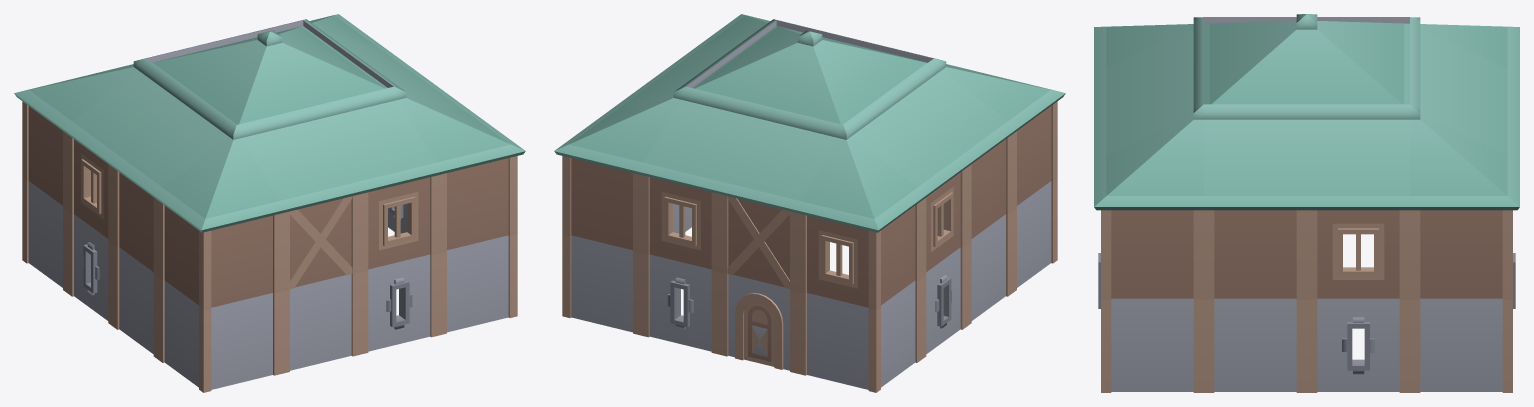
Rendered from house_c.glb.
The picture shows the model from 3 angles, left to right: view 1: azimuth 30°, elevation 25°; view 2: azimuth 150°, elevation 25°; view 3: azimuth 270°, elevation 25°; orthographic projection. The views are drawn at different scales.
Parts seen in each view (by area): view 1: merged; view 2: merged; view 3: merged.
Boxes of the visible parts, x1=… form: merged: x1=14, y1=14, x2=525, y2=392; merged: x1=554, y1=14, x2=1065, y2=392; merged: x1=1094, y1=14, x2=1519, y2=392.
Size of the model in its own units: 9.1 by 6.88 by 9.1.
